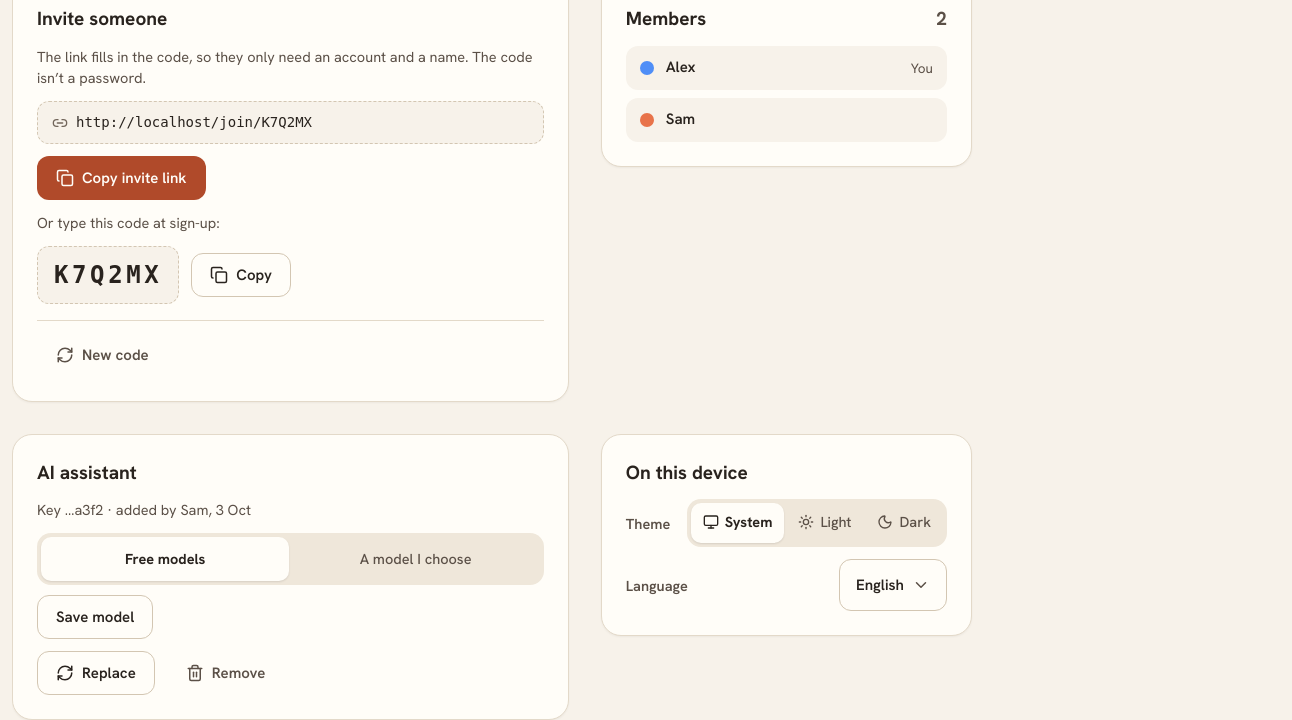
Test: when the status is not known › does not fall back to the no-key layout when the refresh after saving the model fails
(page scrolled)
Click the button "Save model".
click(95, 617)  # box [37,595,153,639]
(page scrolled)
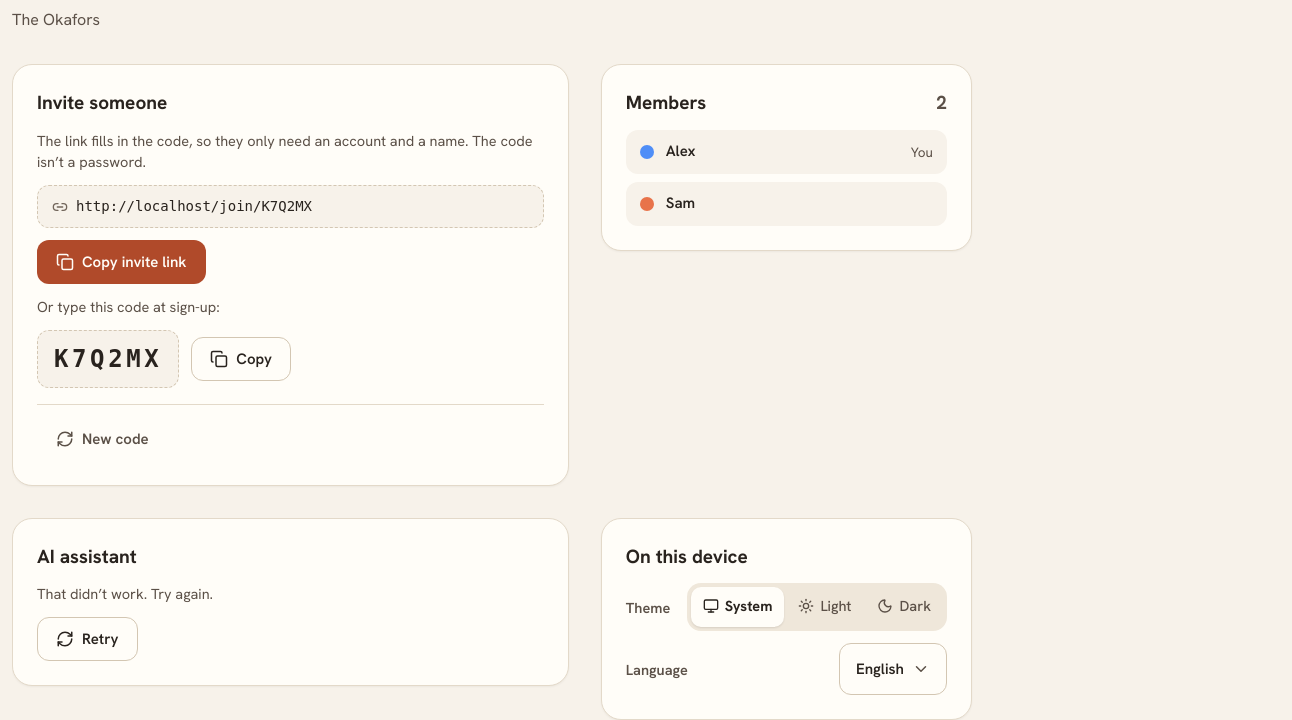
Expected: the element showing "AI assistant That didn’t work. Try again. Retry" is shown, [12,518,569,686]
Expected: the button "Save model" is gone
